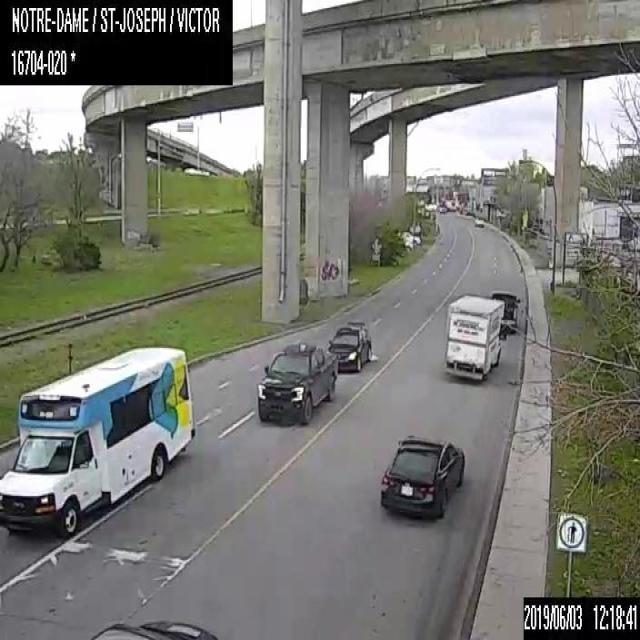bus: (0, 347, 195, 535)
vehicle: (380, 434, 464, 520), (256, 343, 337, 424), (443, 293, 506, 380), (90, 617, 218, 639), (327, 321, 371, 371), (492, 292, 520, 332), (474, 216, 483, 226)
